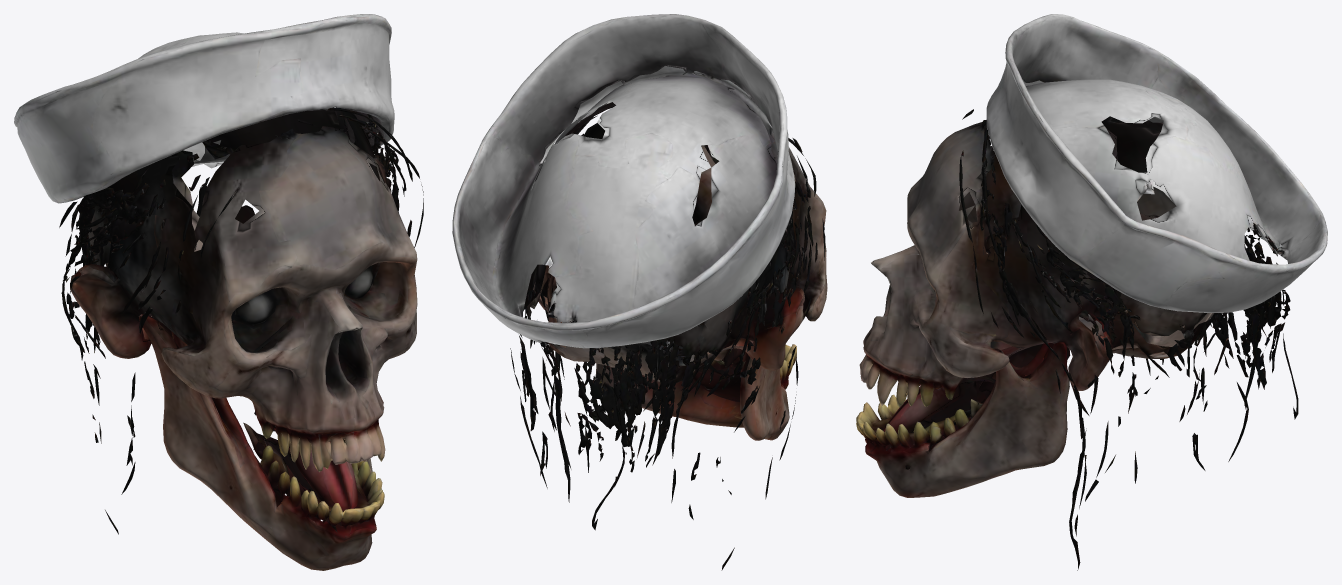
The model's file is monster-head.glb.
3 renders of one model, left to right at view 1: azimuth 30°, elevation 25°; view 2: azimuth 150°, elevation 25°; view 3: azimuth 270°, elevation 25°, orthographic. The views are drawn at different scales.
Visible parts, largest first — view 1: doll; view 2: doll; view 3: doll.
Part boxes in pixels (x1,y1,x2,y2): doll: (14, 14, 423, 570); doll: (452, 14, 827, 570); doll: (856, 14, 1327, 570).
Size of the model in its own units: 0.6547 by 1 by 0.884.
Materials: 1 (1 with a texture image).
